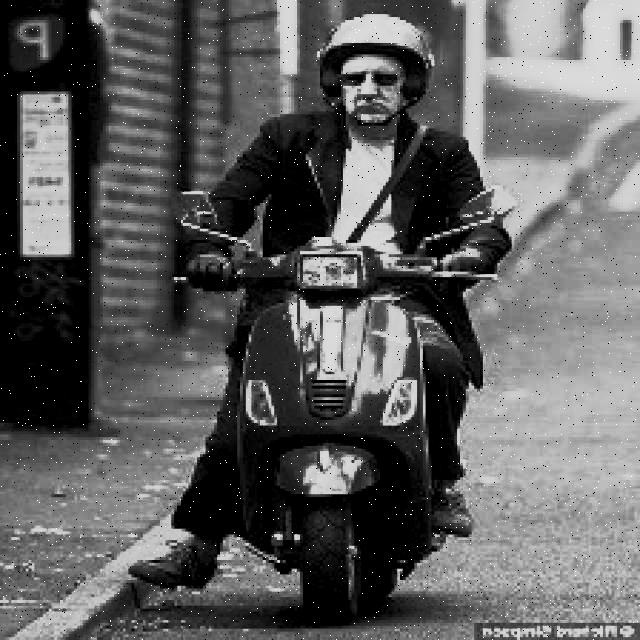Bike: (215, 239, 455, 623)
